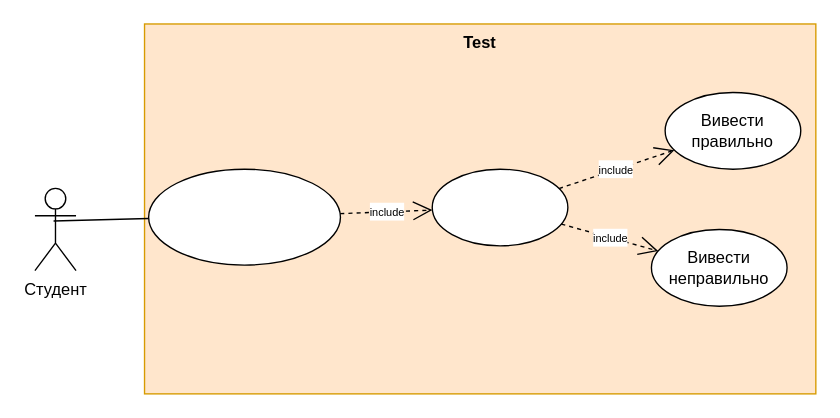
Some shapes in this 840 by 418 pixel diagram are drawn without their labels. Each missing label, with the centre of its shape:
"Обрати відповідь" goes at point (499, 207).
"Обрати тести" goes at point (243, 216).
